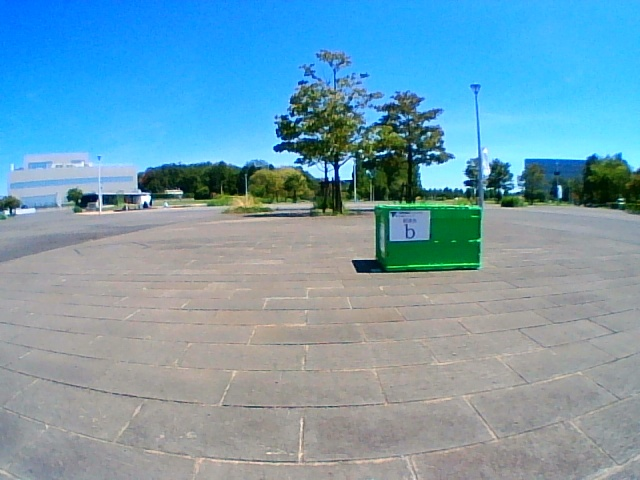green_box: (376, 205, 481, 271)
tag_b: (389, 211, 430, 240)
